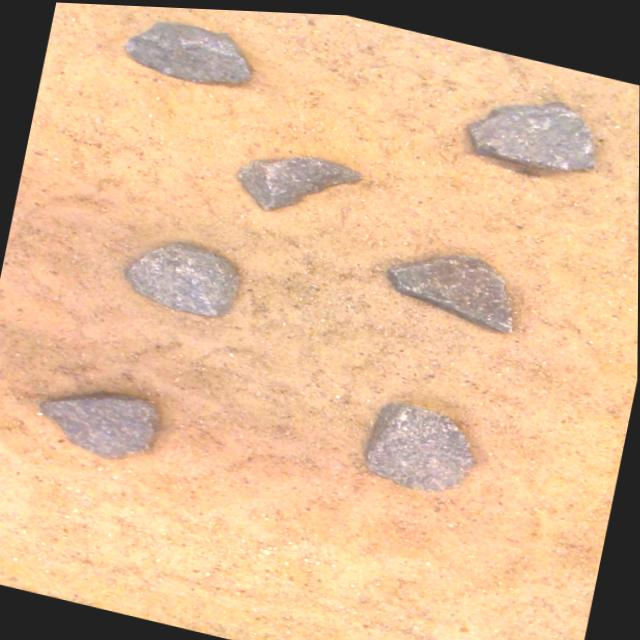rock: (368, 399, 477, 487), (390, 250, 513, 327), (471, 97, 597, 165), (127, 241, 240, 314), (42, 393, 161, 457), (126, 20, 252, 80), (240, 155, 363, 208)
